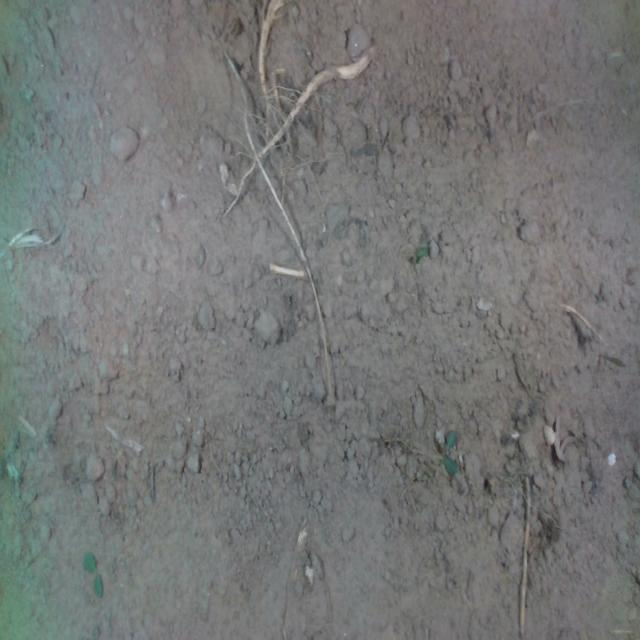weed: (82, 549, 104, 600)
